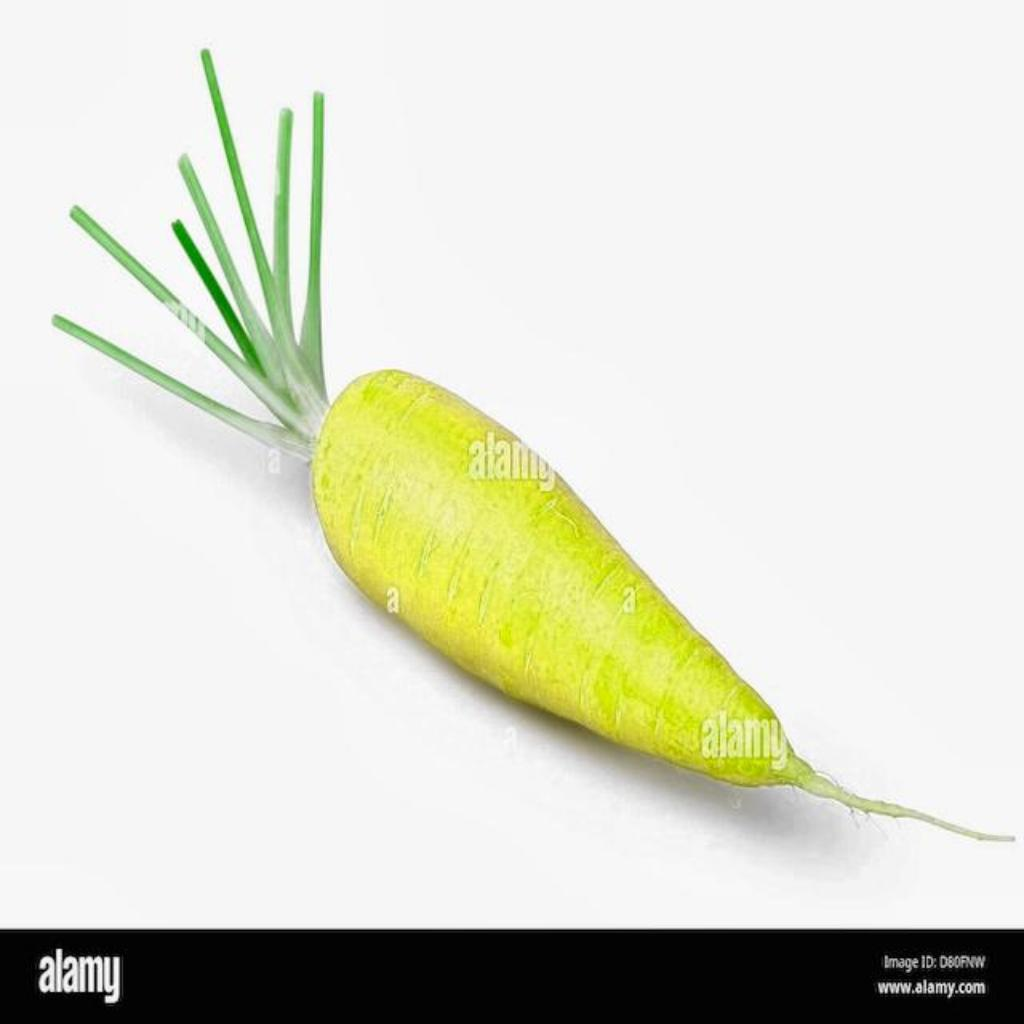carrot: (54, 54, 1002, 840)
